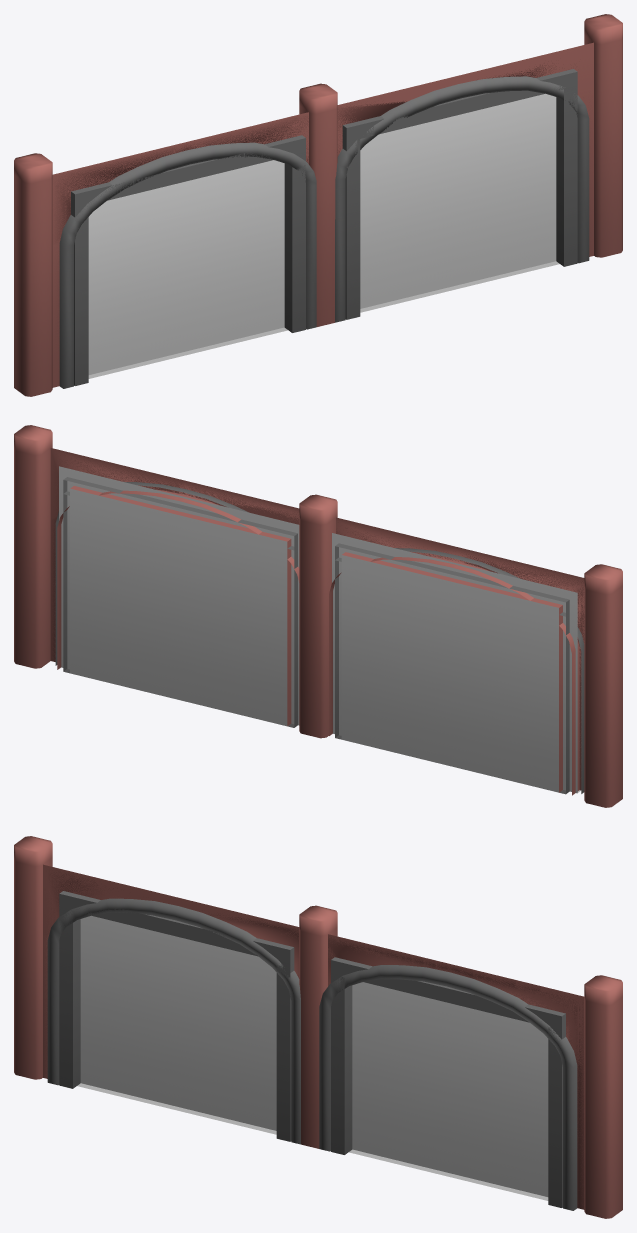
File: east-security-gate.glb
3 views of the same model, one above another, from view 1: azimuth 30°, elevation 25°; view 2: azimuth 150°, elevation 25°; view 3: azimuth 330°, elevation 25° (orthographic).
Parts seen in each view (by area): view 1: Part_01_IndGarageArchWhite_GarageArchWhite, Part_03_IndGarageArchWhite_GarageArchWhite, Part_04_IndGarageWhite_GarageWhite, Part_02_IndGarageWhite_GarageWhite, Part_05_IndColumnFree_ColumnFree, Part_09_IndColumnFree_ColumnFree, Part_07_IndColumnFree_ColumnFree, Part_06_IndColumnFreeCap_ColumnFreeCap, Part_10_IndColumnFreeCap_ColumnFreeCap, Part_08_IndColumnFreeCap_ColumnFreeCap; view 2: Part_04_IndGarageWhite_GarageWhite, Part_02_IndGarageWhite_GarageWhite, Part_01_IndGarageArchWhite_GarageArchWhite, Part_03_IndGarageArchWhite_GarageArchWhite, Part_05_IndColumnFree_ColumnFree, Part_09_IndColumnFree_ColumnFree, Part_07_IndColumnFree_ColumnFree, Part_06_IndColumnFreeCap_ColumnFreeCap, Part_10_IndColumnFreeCap_ColumnFreeCap, Part_08_IndColumnFreeCap_ColumnFreeCap; view 3: Part_03_IndGarageArchWhite_GarageArchWhite, Part_01_IndGarageArchWhite_GarageArchWhite, Part_02_IndGarageWhite_GarageWhite, Part_04_IndGarageWhite_GarageWhite, Part_09_IndColumnFree_ColumnFree, Part_05_IndColumnFree_ColumnFree, Part_07_IndColumnFree_ColumnFree, Part_06_IndColumnFreeCap_ColumnFreeCap, Part_10_IndColumnFreeCap_ColumnFreeCap, Part_08_IndColumnFreeCap_ColumnFreeCap.
Boxes of the visible parts, x1,y1,x2,y2 form: Part_01_IndGarageArchWhite_GarageArchWhite: (52, 112, 316, 388); Part_03_IndGarageArchWhite_GarageArchWhite: (335, 61, 593, 322); Part_04_IndGarageWhite_GarageWhite: (337, 42, 593, 319); Part_02_IndGarageWhite_GarageWhite: (52, 112, 308, 387); Part_05_IndColumnFree_ColumnFree: (14, 175, 52, 396); Part_09_IndColumnFree_ColumnFree: (584, 35, 622, 257); Part_07_IndColumnFree_ColumnFree: (299, 105, 337, 326); Part_06_IndColumnFreeCap_ColumnFreeCap: (14, 153, 52, 183); Part_10_IndColumnFreeCap_ColumnFreeCap: (584, 14, 622, 44); Part_08_IndColumnFreeCap_ColumnFreeCap: (299, 83, 337, 113); Part_04_IndGarageWhite_GarageWhite: (50, 449, 299, 727); Part_02_IndGarageWhite_GarageWhite: (335, 522, 584, 794); Part_01_IndGarageArchWhite_GarageArchWhite: (329, 517, 584, 795); Part_03_IndGarageArchWhite_GarageArchWhite: (50, 448, 299, 725); Part_05_IndColumnFree_ColumnFree: (584, 586, 622, 807); Part_09_IndColumnFree_ColumnFree: (14, 446, 52, 668); Part_07_IndColumnFree_ColumnFree: (299, 516, 337, 738); Part_06_IndColumnFreeCap_ColumnFreeCap: (584, 564, 622, 594); Part_10_IndColumnFreeCap_ColumnFreeCap: (14, 425, 52, 455); Part_08_IndColumnFreeCap_ColumnFreeCap: (299, 494, 337, 524); Part_03_IndGarageArchWhite_GarageArchWhite: (319, 934, 584, 1210); Part_01_IndGarageArchWhite_GarageArchWhite: (43, 865, 300, 1144); Part_02_IndGarageWhite_GarageWhite: (43, 864, 299, 1141); Part_04_IndGarageWhite_GarageWhite: (328, 934, 584, 1207); Part_09_IndColumnFree_ColumnFree: (584, 997, 622, 1218); Part_05_IndColumnFree_ColumnFree: (14, 857, 52, 1079); Part_07_IndColumnFree_ColumnFree: (299, 927, 337, 1148); Part_06_IndColumnFreeCap_ColumnFreeCap: (14, 836, 52, 866); Part_10_IndColumnFreeCap_ColumnFreeCap: (584, 975, 622, 1005); Part_08_IndColumnFreeCap_ColumnFreeCap: (299, 905, 337, 935).
Size of the model in its own units: 8.8 by 3.2 by 0.4.
Materials: 10 (10 with a texture image).
